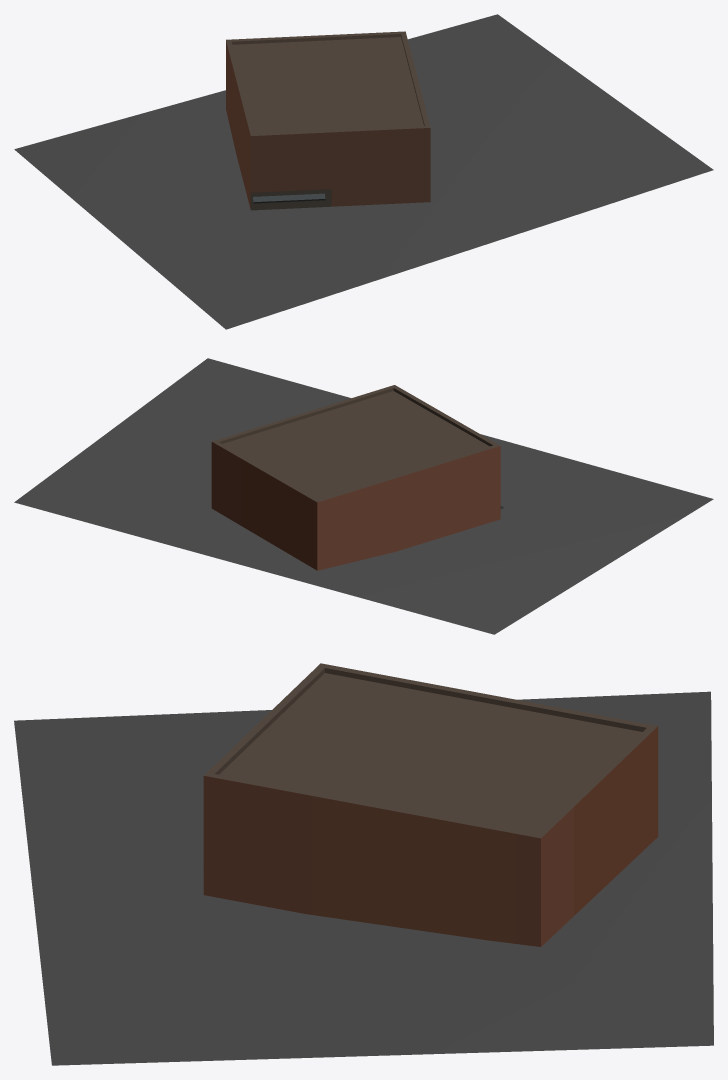
File: lindsay-commons.glb
3 views of the same model, one above another, from view 1: azimuth 30°, elevation 25°; view 2: azimuth 150°, elevation 25°; view 3: azimuth 270°, elevation 25° (orthographic). The views are drawn at different scales.
Parts seen in each view (by area): view 1: LOD0; view 2: LOD0; view 3: LOD0.
Part boxes in pixels (box(x1,y1,x2,y2)): LOD0: box(14, 14, 713, 329); LOD0: box(14, 358, 713, 634); LOD0: box(14, 663, 713, 1065).
Size of what is drawn, in the model's own units: 102 by 18.33 by 76.72.
1 material, 1 textured.
